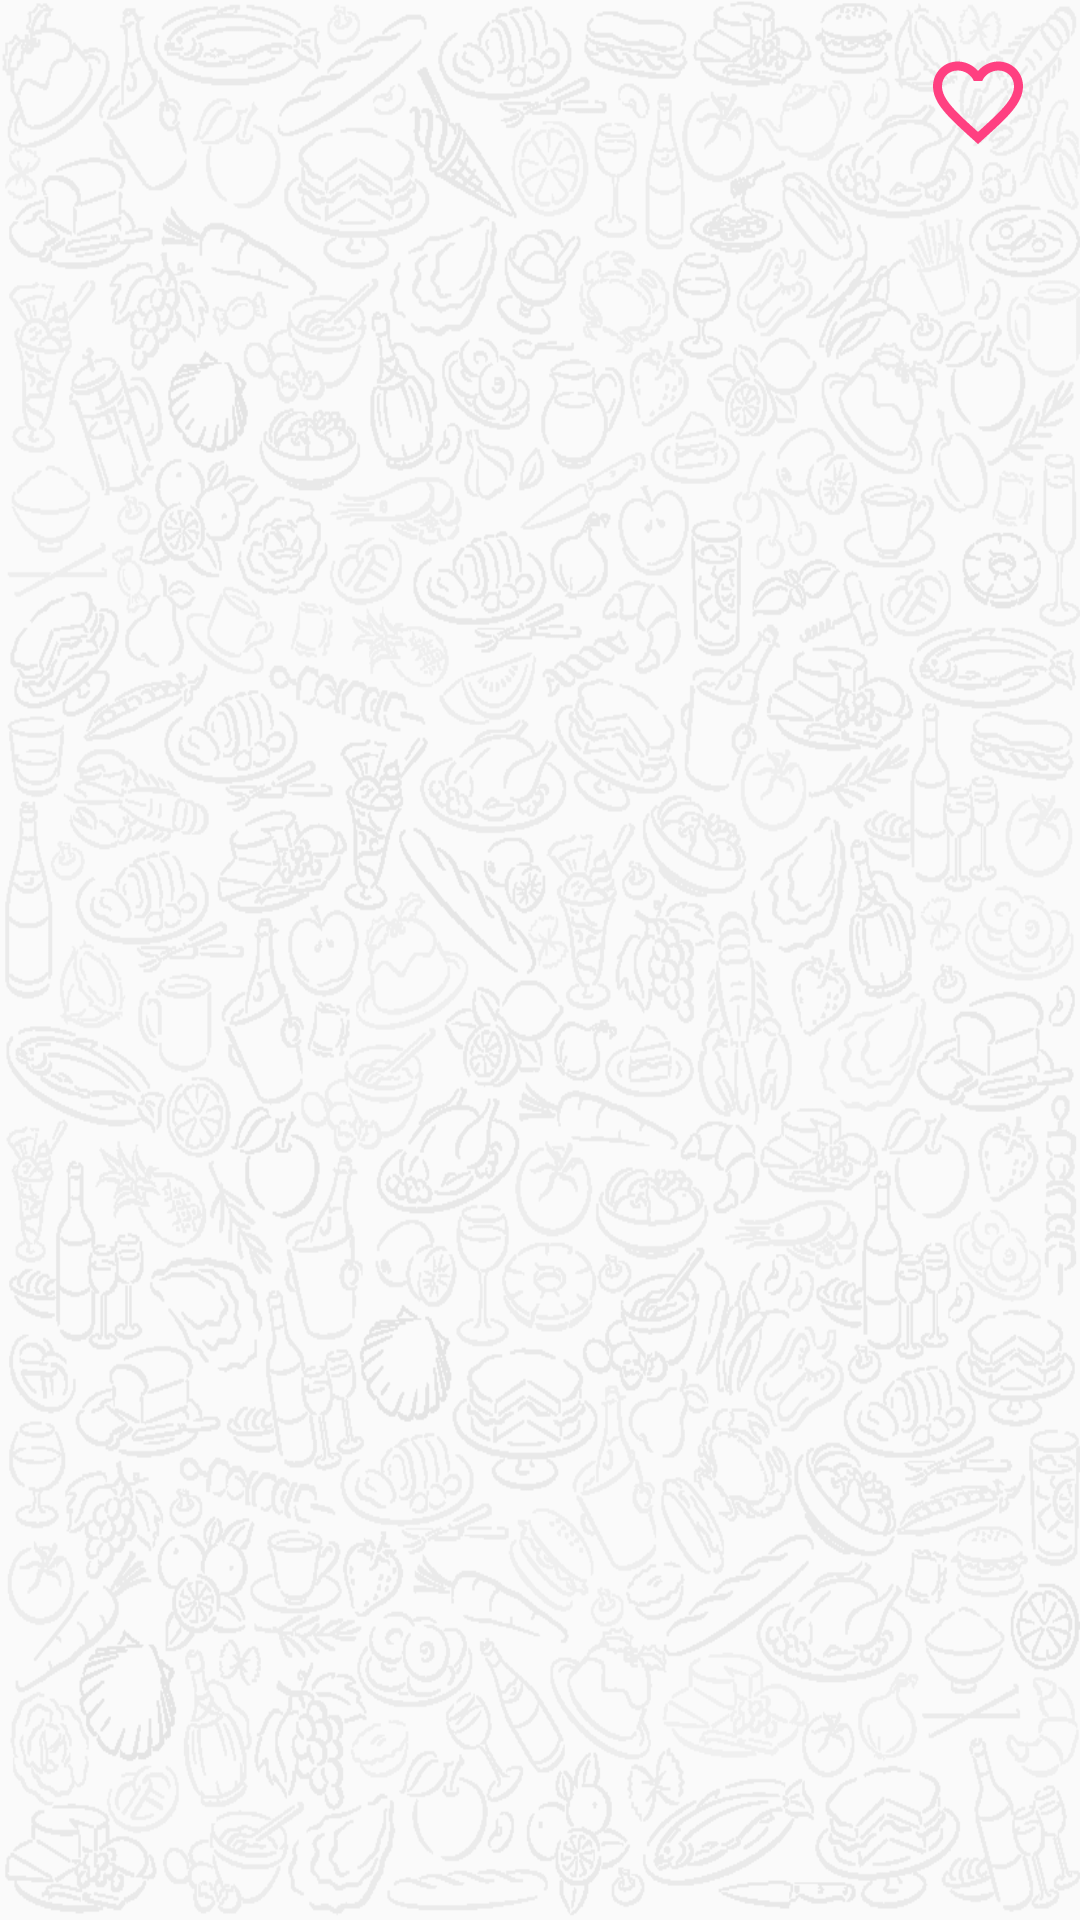

Icon click points for this 1080px×1920px phone screenshot, format (x,y):
favorite empty: (978,102)
